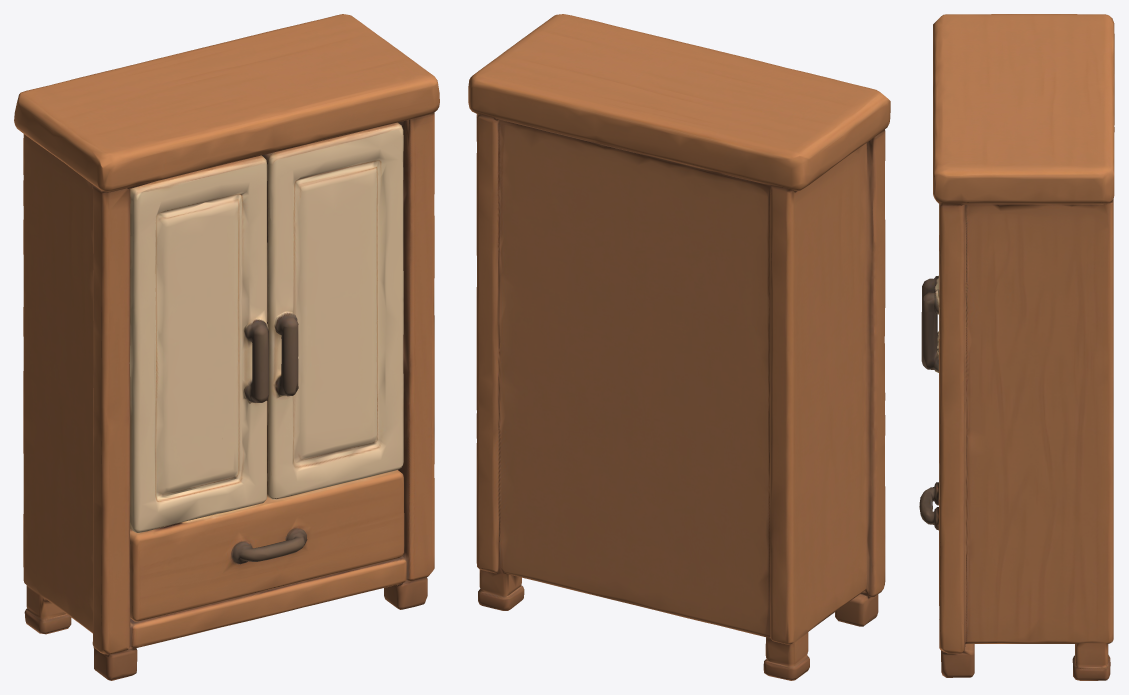
Rendered from wardrobe-oak.glb.
3 renders of one model, left to right at view 1: azimuth 30°, elevation 25°; view 2: azimuth 150°, elevation 25°; view 3: azimuth 270°, elevation 25°, orthographic. The views are drawn at different scales.
Visible parts, largest first — view 1: tripo_node_9955f7c0-1471-4021-9540-766ae4629ef2; view 2: tripo_node_9955f7c0-1471-4021-9540-766ae4629ef2; view 3: tripo_node_9955f7c0-1471-4021-9540-766ae4629ef2.
Boxes of the visible parts, box(x1,y1,x2,y2) form: tripo_node_9955f7c0-1471-4021-9540-766ae4629ef2: box(14, 14, 439, 680); tripo_node_9955f7c0-1471-4021-9540-766ae4629ef2: box(468, 14, 890, 680); tripo_node_9955f7c0-1471-4021-9540-766ae4629ef2: box(919, 14, 1114, 680).
Bounding box in the file's own units: 0.6707 × 1 × 0.343.
1 material, 1 textured.
